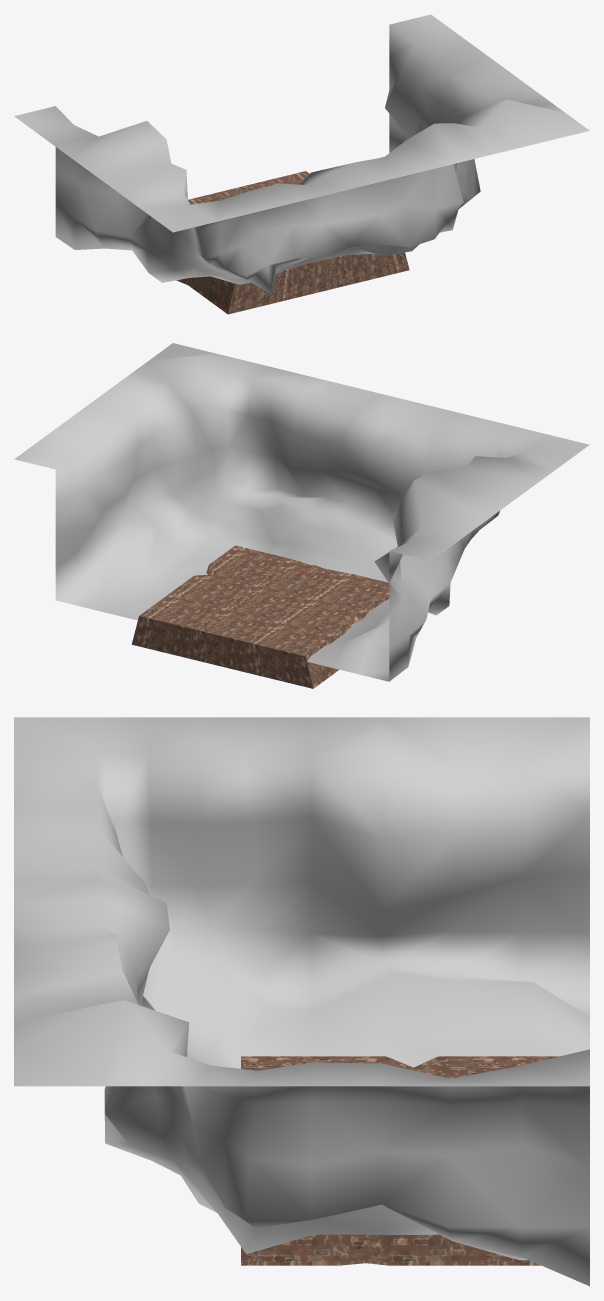
Rendered from tile_naturalstart.fbx.
The picture shows the model from 3 angles, top to bottom: view 1: azimuth 30°, elevation 25°; view 2: azimuth 150°, elevation 25°; view 3: azimuth 270°, elevation 25°; orthographic projection. The views are drawn at different scales.
Parts seen in each view (by area): view 1: tilenaturalstart; view 2: tilenaturalstart; view 3: tilenaturalstart.
Part boxes in pixels (x1,y1,x2,y2): tilenaturalstart: [14, 14, 589, 314]; tilenaturalstart: [14, 343, 589, 688]; tilenaturalstart: [14, 717, 589, 1286].
Bounding box in the file's own units: 5000 × 3301 × 2044.
